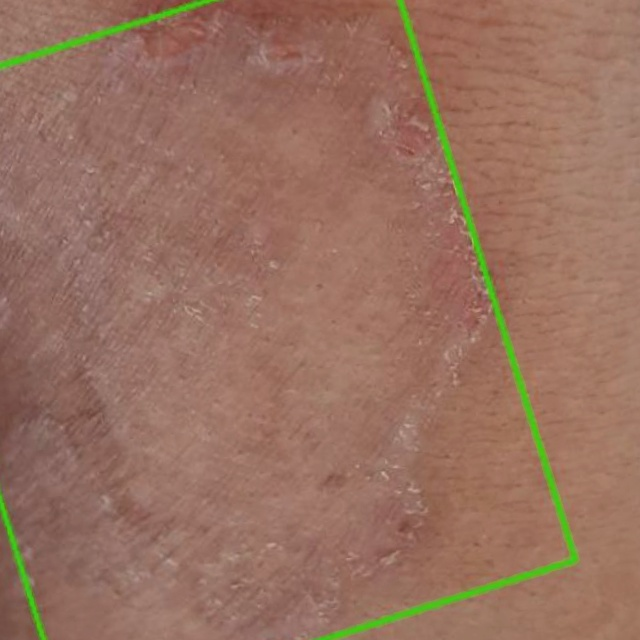Tinea Corporis: (0, 0, 583, 639)
